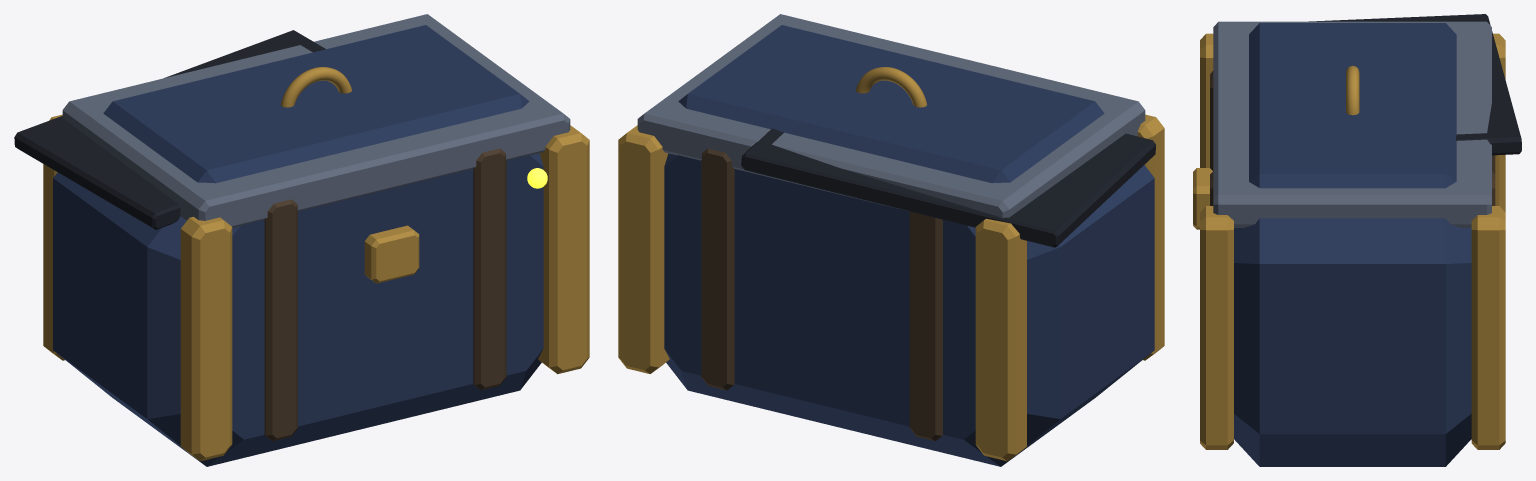
File: shared_cache_hidden.glb
3 renders of one model, left to right at view 1: azimuth 30°, elevation 25°; view 2: azimuth 150°, elevation 25°; view 3: azimuth 270°, elevation 25°, orthographic.
Parts seen in each view (by area): view 1: cache_body, cache_lid_plate, cache_corner-0.60.4, cache_corner0.60.4, cache_tarp, cache_strap-0.35, cache_strap0.35, cache_lock, cache_corner-0.6-0.4, cache_lid_handle; view 2: cache_body, cache_lid_plate, cache_tarp, cache_corner-0.6-0.4, cache_corner0.6-0.4, cache_strap0.35, cache_strap-0.35, cache_corner-0.60.4, cache_lid_handle; view 3: cache_body, cache_lid_plate, cache_corner0.6-0.4, cache_corner0.60.4, cache_tarp, cache_corner-0.60.4, cache_corner-0.6-0.4, cache_lock, cache_lid_handle, cache_strap-0.35.
Boxes of the visible parts, x1=… form: cache_body: x1=53, y1=25, x2=543, y2=466; cache_lid_plate: x1=62, y1=14, x2=570, y2=227; cache_corner-0.60.4: x1=180, y1=216, x2=232, y2=461; cache_corner0.60.4: x1=538, y1=125, x2=589, y2=374; cache_tarp: x1=14, y1=30, x2=325, y2=229; cache_strap-0.35: x1=264, y1=199, x2=297, y2=441; cache_strap0.35: x1=473, y1=148, x2=506, y2=390; cache_lock: x1=364, y1=225, x2=419, y2=283; cache_corner-0.6-0.4: x1=43, y1=114, x2=64, y2=360; cache_lid_handle: x1=280, y1=67, x2=351, y2=107; cache_body: x1=664, y1=25, x2=1154, y2=466; cache_lid_plate: x1=637, y1=14, x2=1145, y2=228; cache_tarp: x1=741, y1=128, x2=1155, y2=247; cache_corner-0.6-0.4: x1=975, y1=218, x2=1026, y2=461; cache_corner0.6-0.4: x1=618, y1=125, x2=669, y2=373; cache_strap0.35: x1=701, y1=148, x2=734, y2=390; cache_strap-0.35: x1=909, y1=211, x2=942, y2=441; cache_corner-0.60.4: x1=1137, y1=114, x2=1164, y2=360; cache_lid_handle: x1=856, y1=67, x2=927, y2=107; cache_body: x1=1234, y1=23, x2=1471, y2=466; cache_lid_plate: x1=1213, y1=21, x2=1491, y2=227; cache_corner0.6-0.4: x1=1471, y1=206, x2=1505, y2=449; cache_corner0.60.4: x1=1200, y1=206, x2=1233, y2=449; cache_tarp: x1=1309, y1=14, x2=1521, y2=155; cache_corner-0.60.4: x1=1200, y1=33, x2=1213, y2=167; cache_corner-0.6-0.4: x1=1493, y1=33, x2=1505, y2=212; cache_lock: x1=1193, y1=168, x2=1212, y2=229; cache_lid_handle: x1=1346, y1=65, x2=1359, y2=115; cache_strap-0.35: x1=1210, y1=71, x2=1495, y2=173.
Bounding box in the file's own units: 1.51 × 1.05 × 0.9682.
